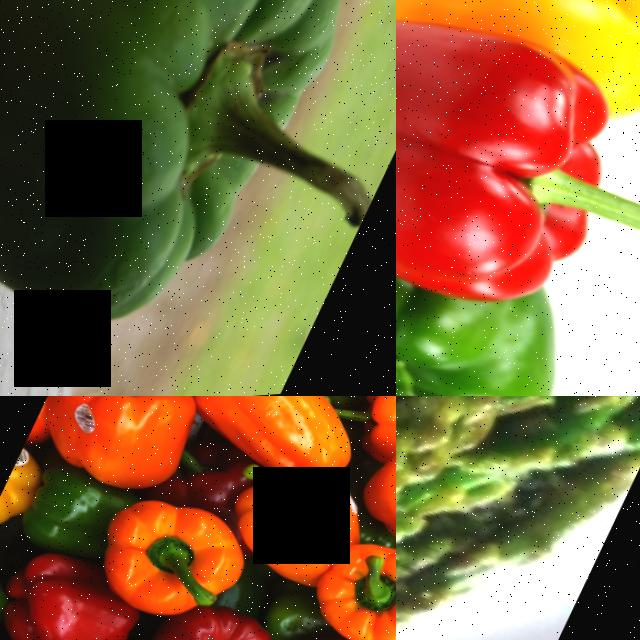bell pepper: (0, 0, 396, 396), (396, 0, 634, 332), (396, 197, 611, 396), (396, 0, 640, 119), (92, 492, 250, 635), (177, 396, 381, 499), (31, 396, 193, 514), (255, 476, 376, 580), (0, 560, 136, 640), (305, 535, 396, 640), (364, 431, 396, 576), (169, 603, 292, 640)
